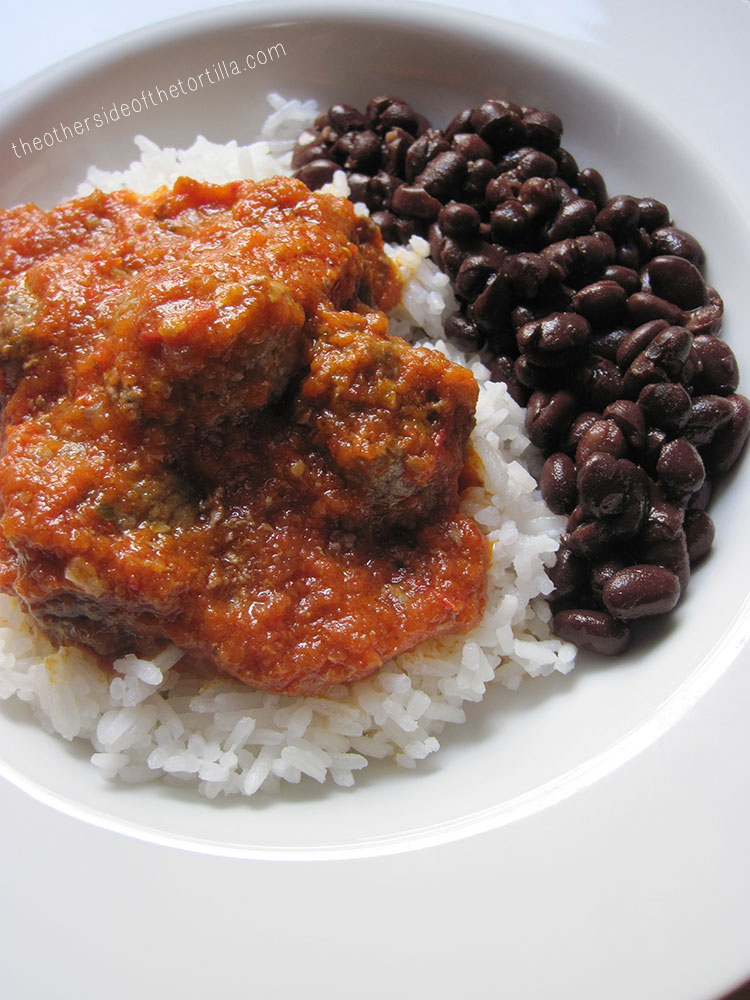meatballs: (1, 231, 447, 642)
plain rice: (17, 651, 514, 798), (467, 394, 569, 669), (91, 117, 318, 191)
